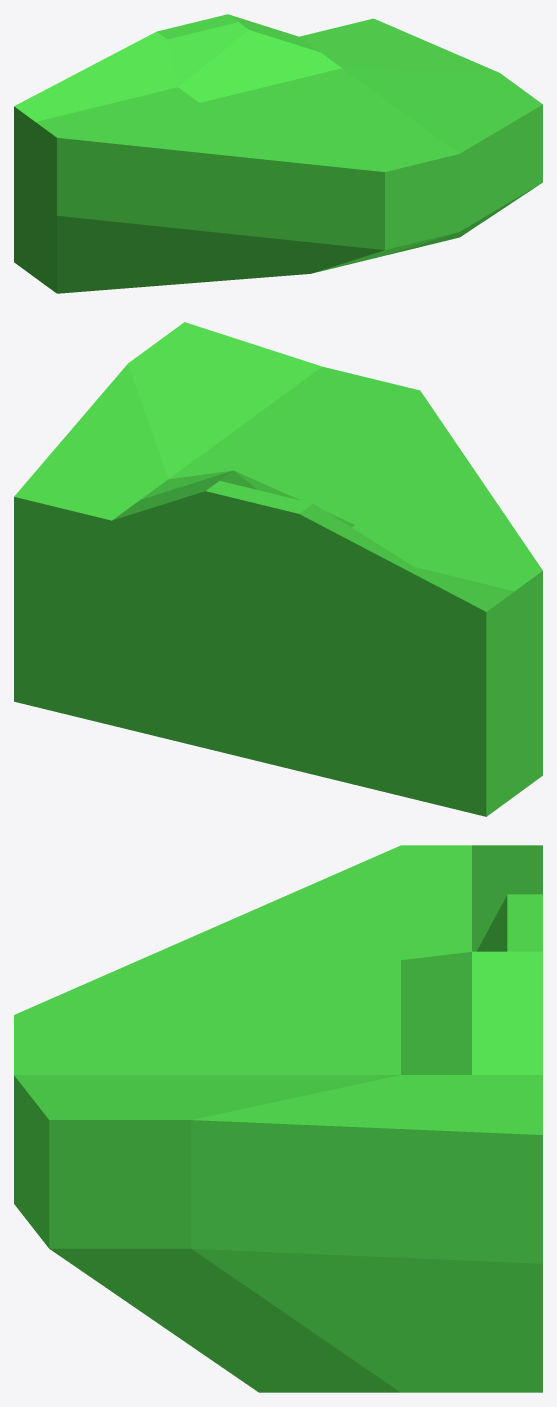
Rendered from Rock.glb.
3 renders of one model, top to bottom at view 1: azimuth 30°, elevation 25°; view 2: azimuth 150°, elevation 25°; view 3: azimuth 270°, elevation 25°, orthographic. The views are drawn at different scales.
Parts seen in each view (by area): view 1: Cube; view 2: Cube; view 3: Cube.
Boxes of the visible parts, box(x1,y1,x2,y2) form: Cube: box(14, 14, 542, 293); Cube: box(14, 322, 542, 816); Cube: box(14, 845, 542, 1392).
Bounding box in the file's own units: 5.09 × 2.51 × 3.72.
